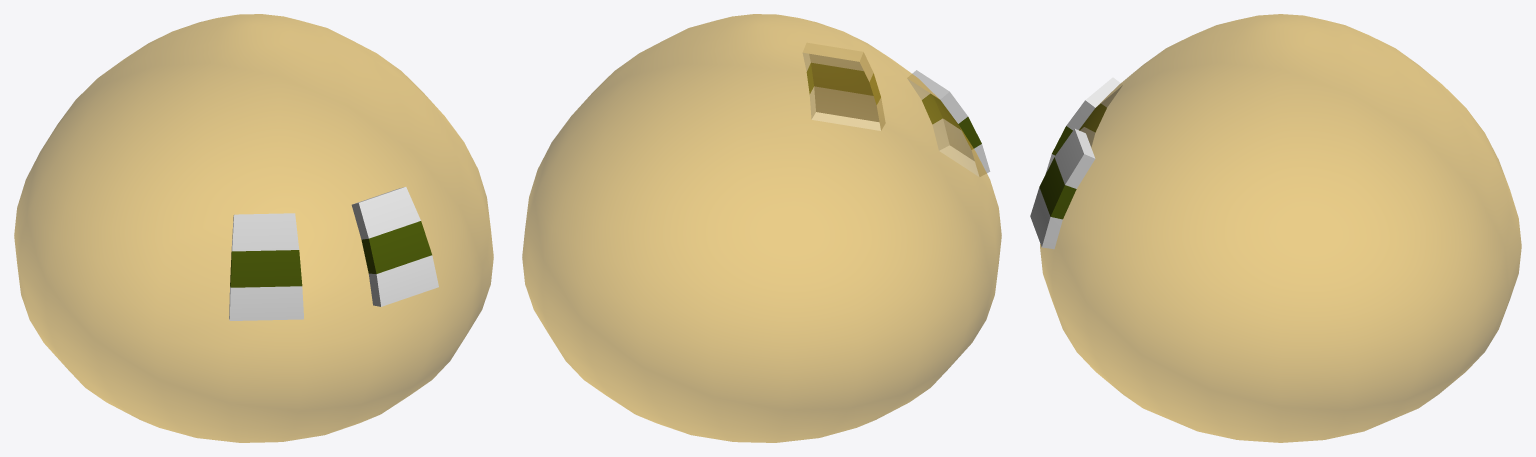
Rendered from Phlegm.fbx.
3 renders of one model, left to right at view 1: azimuth 30°, elevation 25°; view 2: azimuth 150°, elevation 25°; view 3: azimuth 270°, elevation 25°, orthographic.
Visible parts, largest first — view 1: Slime; view 2: Slime; view 3: Slime.
Part boxes in pixels (x1,y1,x2,y2): Slime: (14, 14, 493, 442); Slime: (522, 14, 1001, 442); Slime: (1030, 14, 1521, 442).
Bounding box in the file's own units: 502 × 448 × 512.
